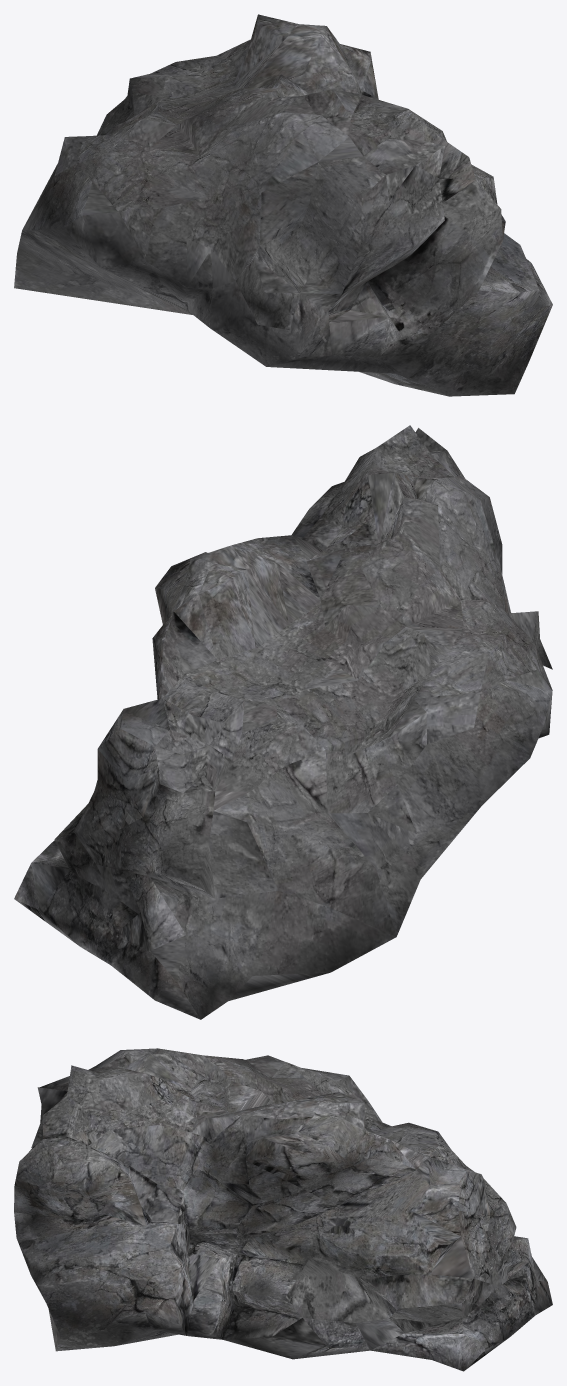
File: glacier_boulder.glb
3 views of the same model, one above another, from view 1: azimuth 30°, elevation 25°; view 2: azimuth 150°, elevation 25°; view 3: azimuth 270°, elevation 25° (orthographic). The views are drawn at different scales.
Parts seen in each view (by area): view 1: glacier_boulder; view 2: glacier_boulder; view 3: glacier_boulder.
Boxes of the visible parts, bbox=[...] form: glacier_boulder: bbox=[14, 14, 552, 396]; glacier_boulder: bbox=[14, 425, 552, 1019]; glacier_boulder: bbox=[14, 1048, 552, 1371].
Bounding box in the file's own units: 1.28 × 1 × 1.79.
Materials: 1 (1 with a texture image).
